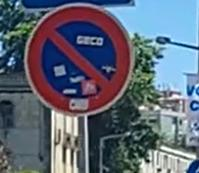estacionamento proibido: (20, 2, 140, 120)
